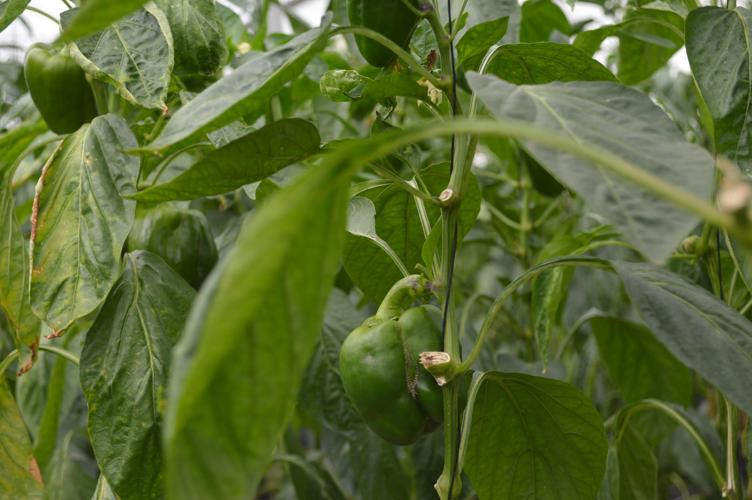BellPepper: (320, 295, 461, 439), (118, 193, 223, 307), (19, 37, 126, 135)
